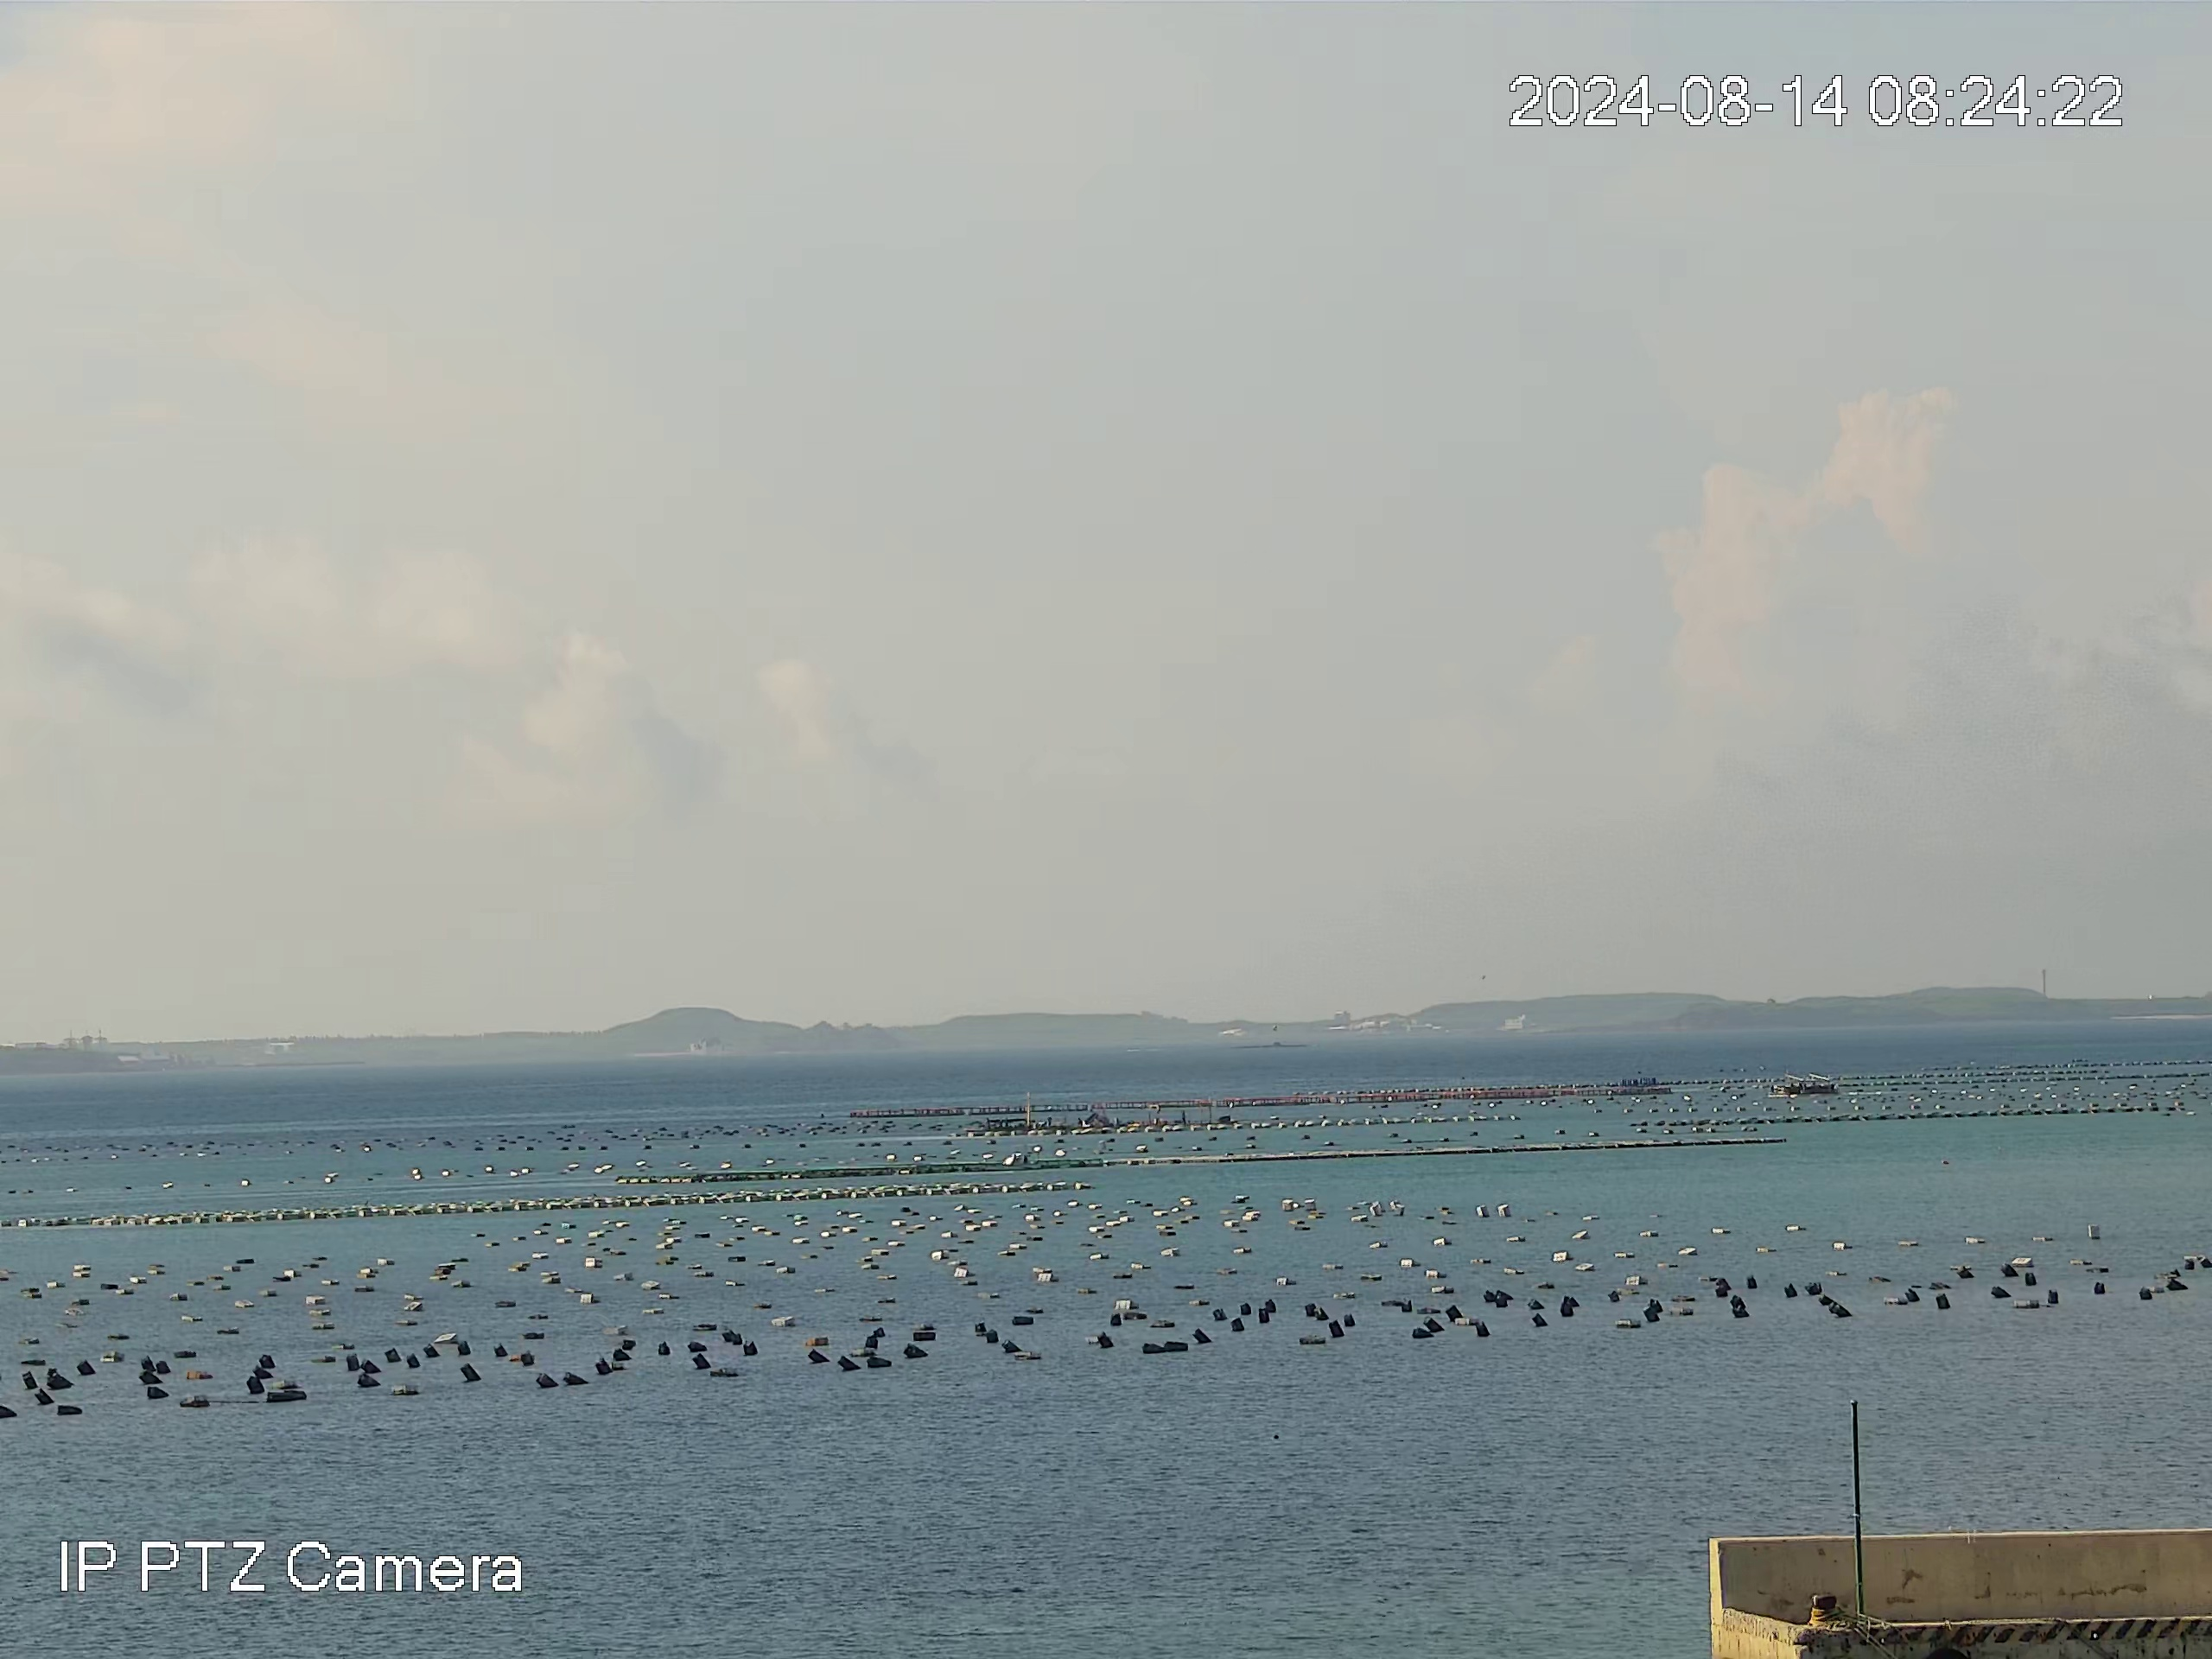boat: (1768, 1068, 1841, 1096)
